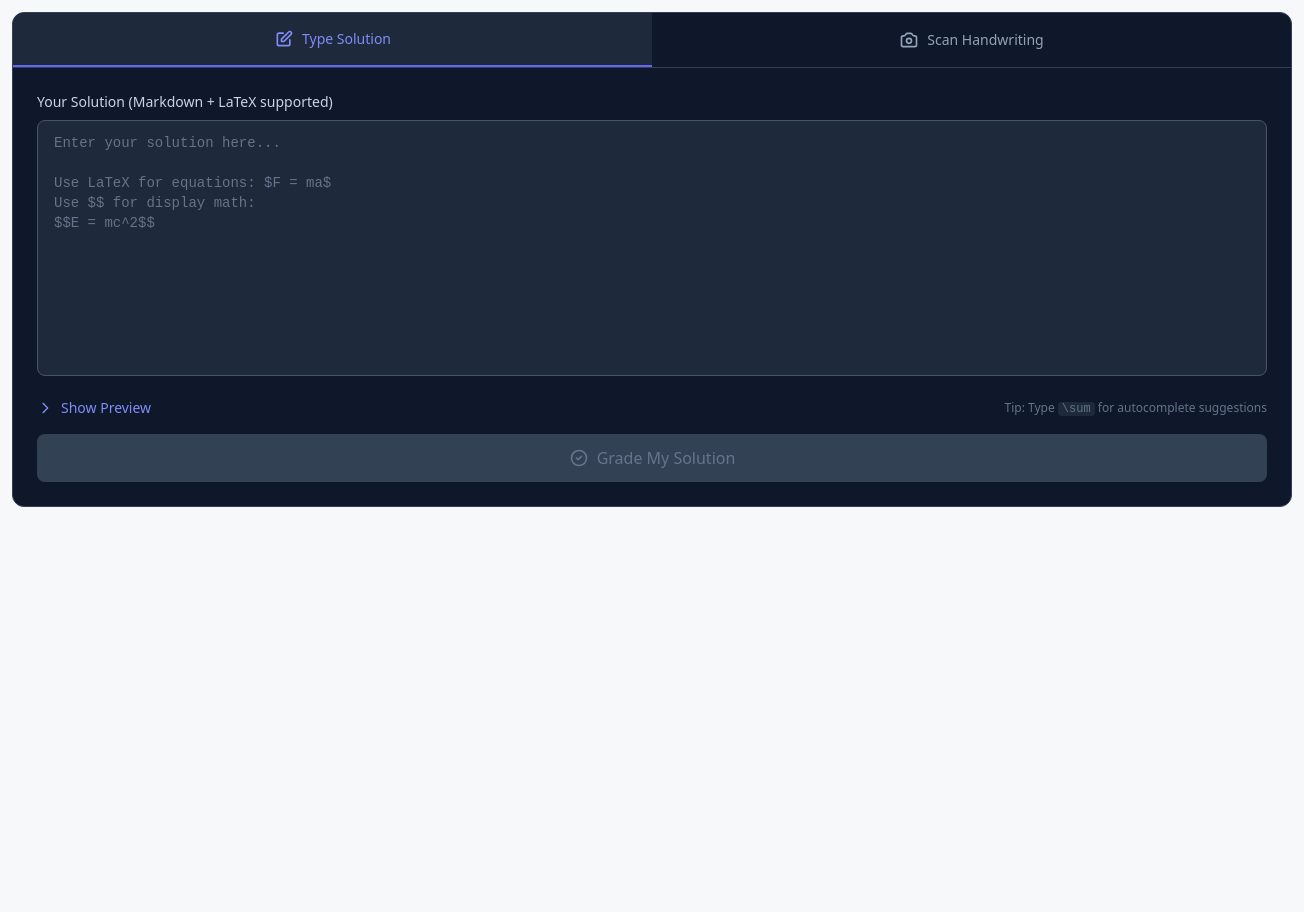
Test: SubmissionCanvas - ConstraintFeedback Integration › next action button icons › shows OPTIMIZE icon for successful solutions
Replace the text in the text box with placeholder "Enter your solution here" with "Correct solution" at (652, 248), box top-left (37, 120), bottom-right (1267, 376)
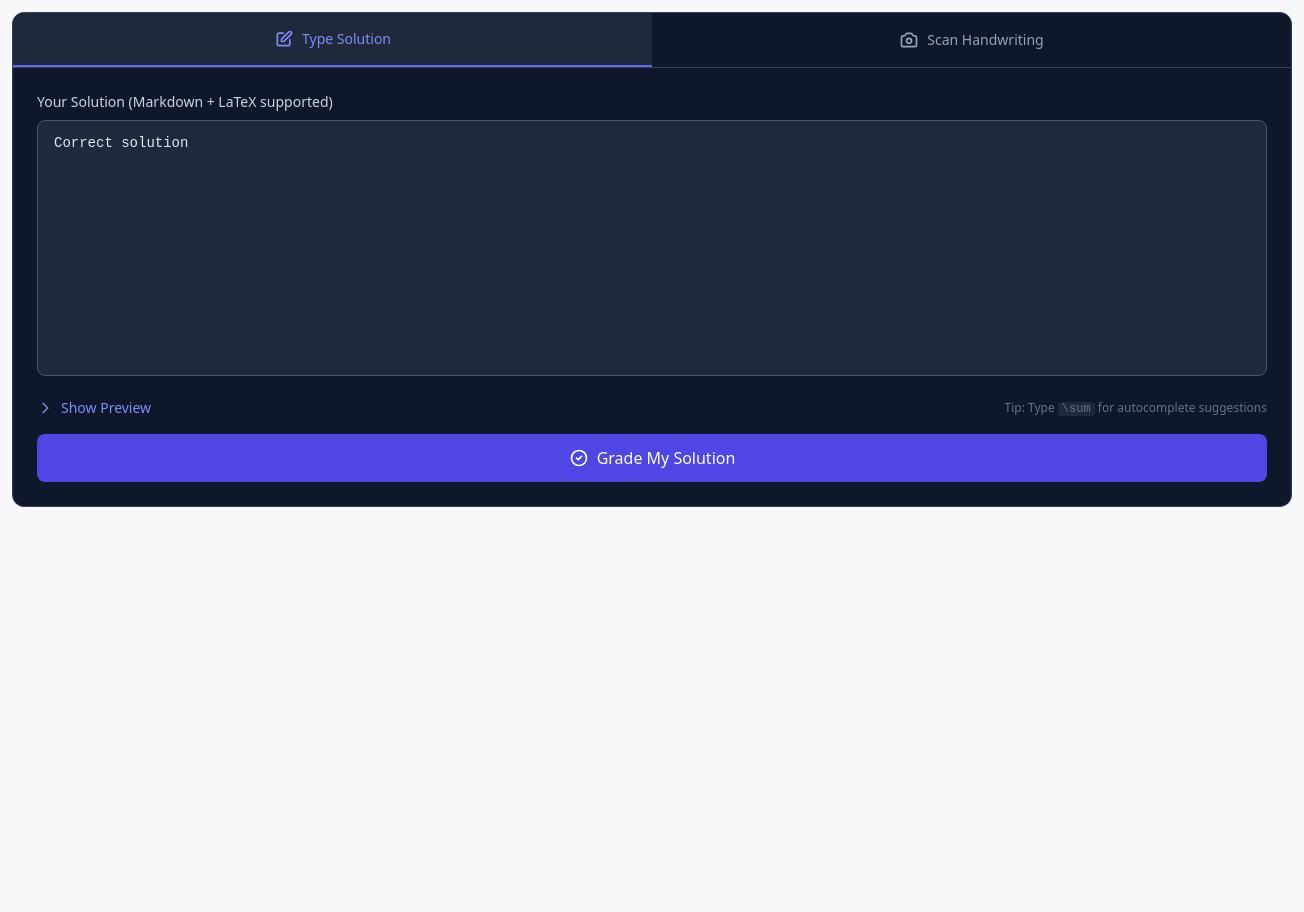
Click the button "Grade My Solution".
click(652, 458)  # box top-left (37, 434), bottom-right (1267, 482)
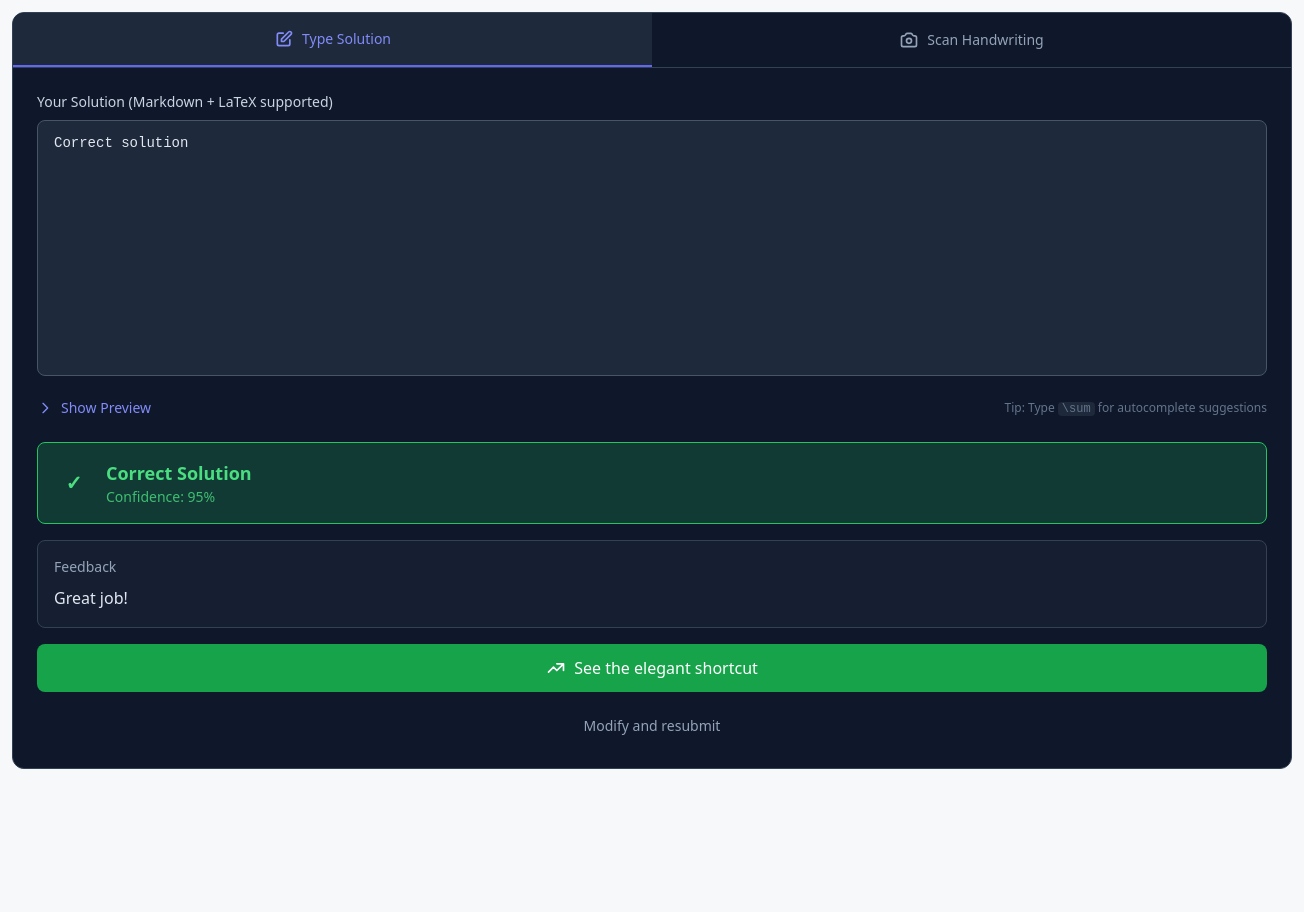
Expected: the 4th icon is shown, top-left (546, 658), bottom-right (566, 678)
Expected: the button "See the elegant shortcut" is shown, top-left (37, 644), bottom-right (1267, 692)
